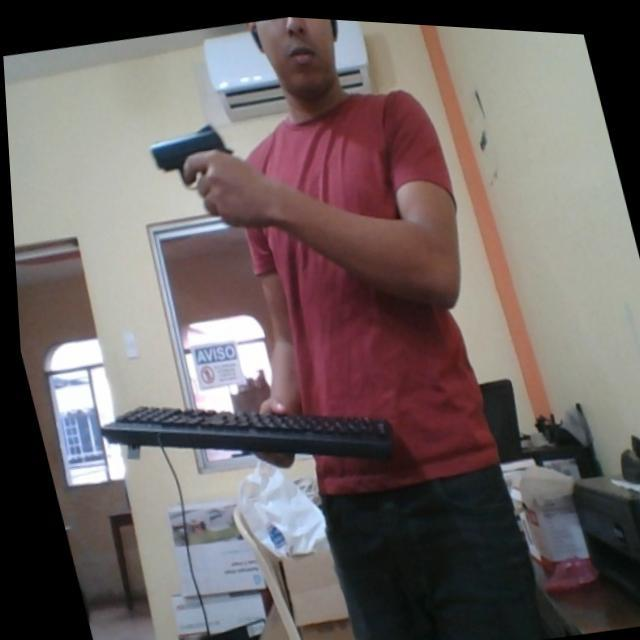weapon: (140, 111, 248, 222)
